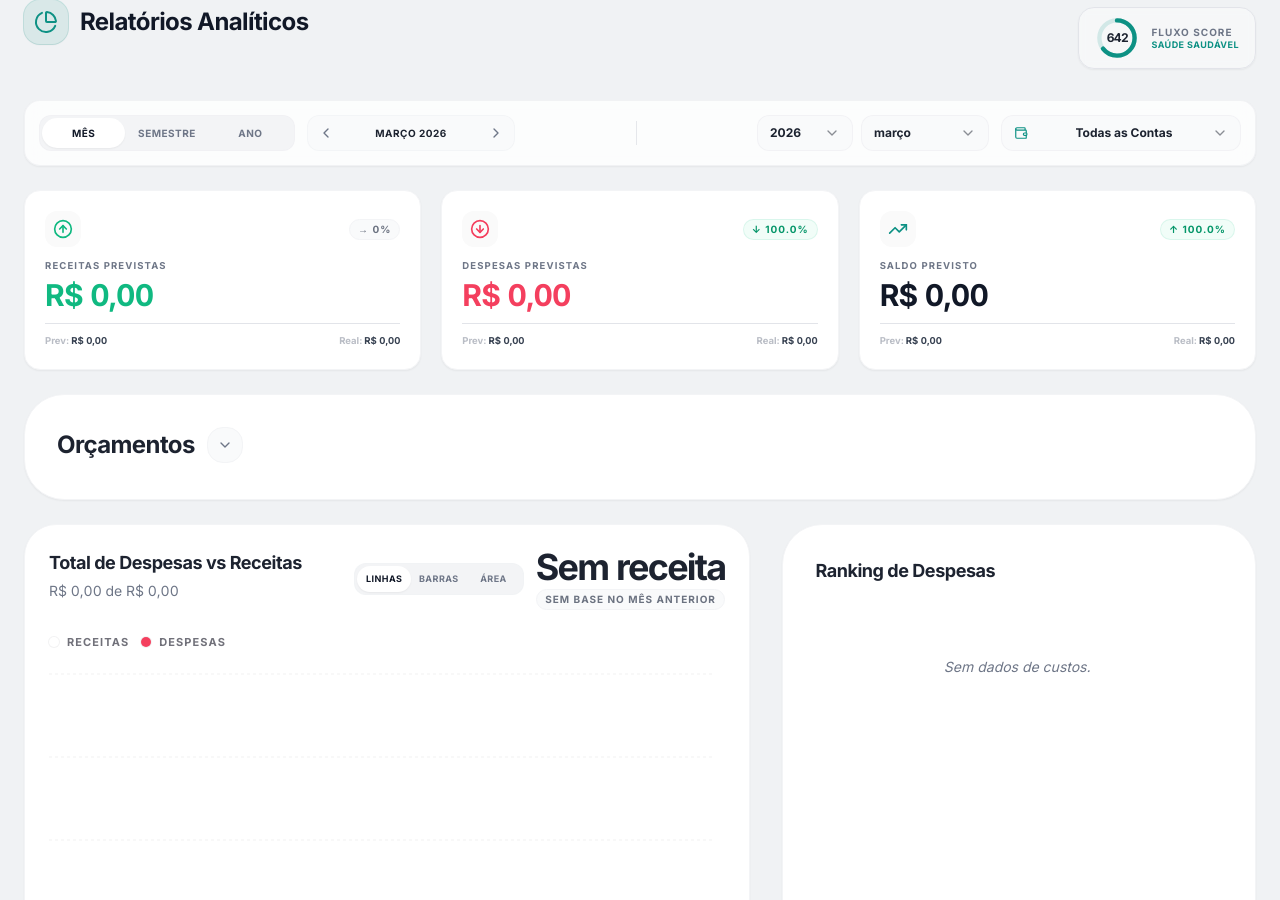
ReportsDashboard - categoria de acordo › recalcula a Analise de Categoria em visoes de semestre e ano
Click the button "Semestre" at [167, 133], box top-left (125, 122), bottom-right (209, 144)
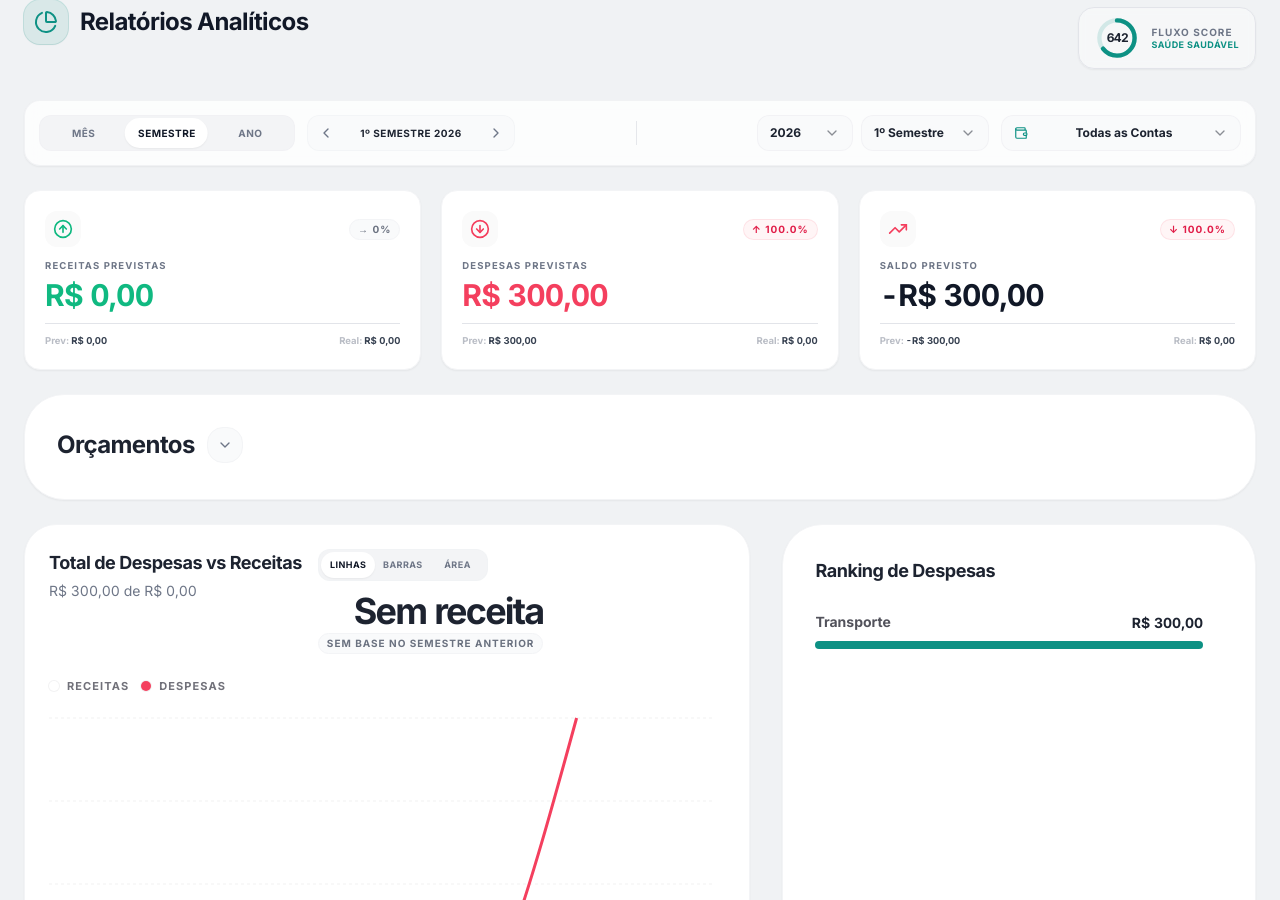
Click the button with test id "category-ranking-bar-" at [853, 621], box top-left (807, 604), bottom-right (1211, 656)
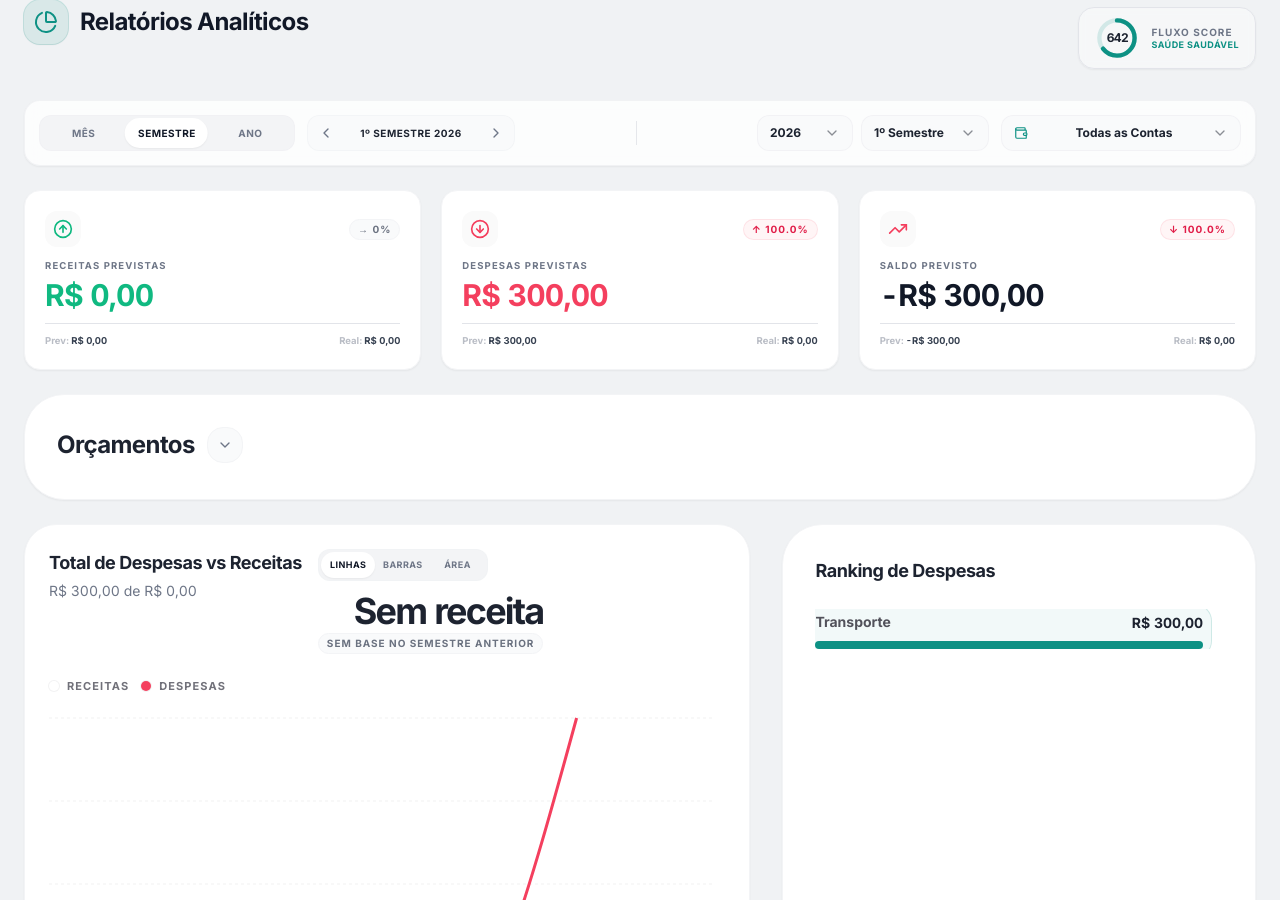
Click the button "Ano" at [250, 133], box top-left (209, 122), bottom-right (292, 144)
(page scrolled)
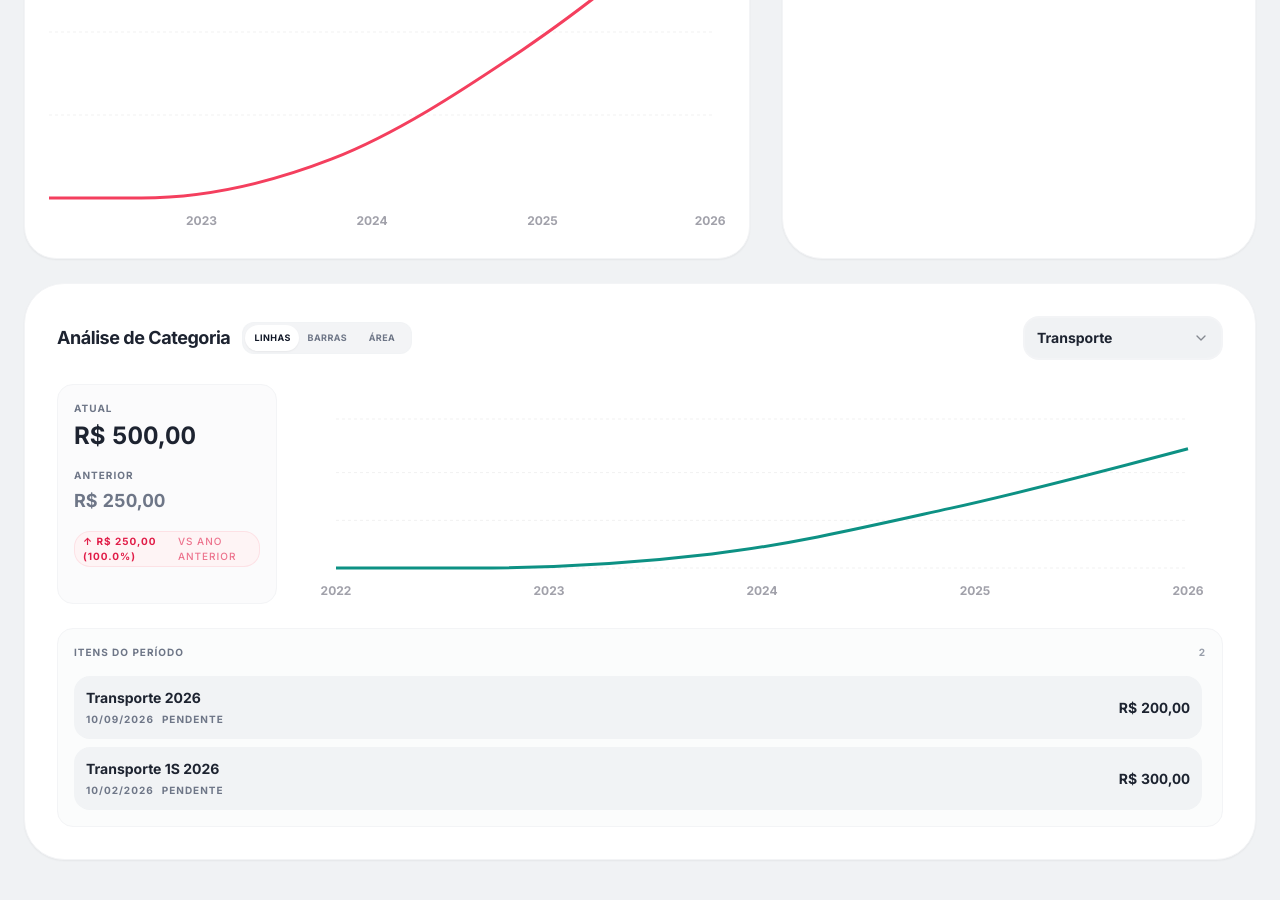
Result: the text "R$ 500,00" is shown at top-left (74, 421), bottom-right (196, 450)
Result: the text "R$ 250,00" is shown at top-left (74, 490), bottom-right (166, 511)
